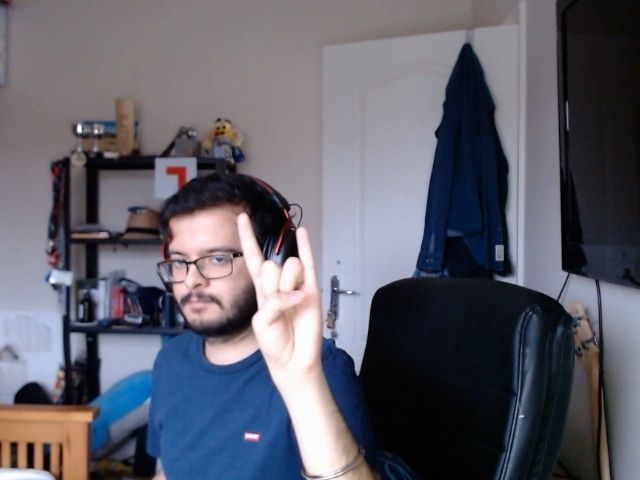Rock on: (210, 210, 340, 382)
